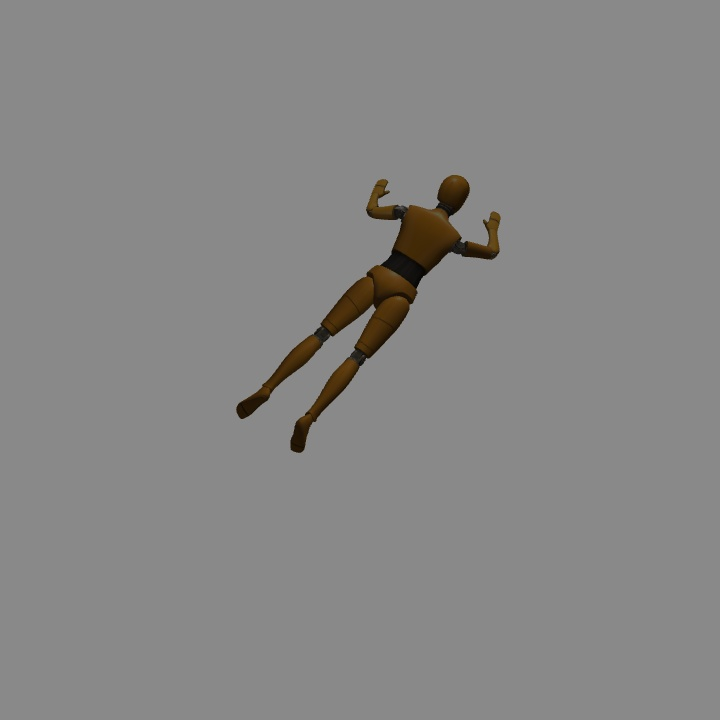victim: (235, 173, 502, 456)
